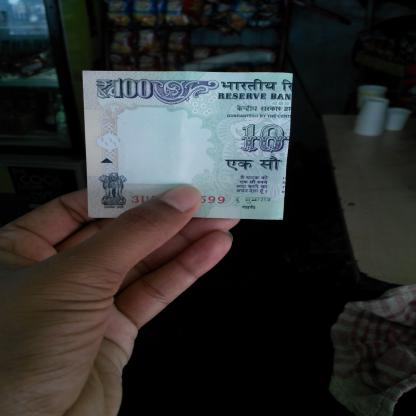Old100Front: (83, 70, 292, 220)
